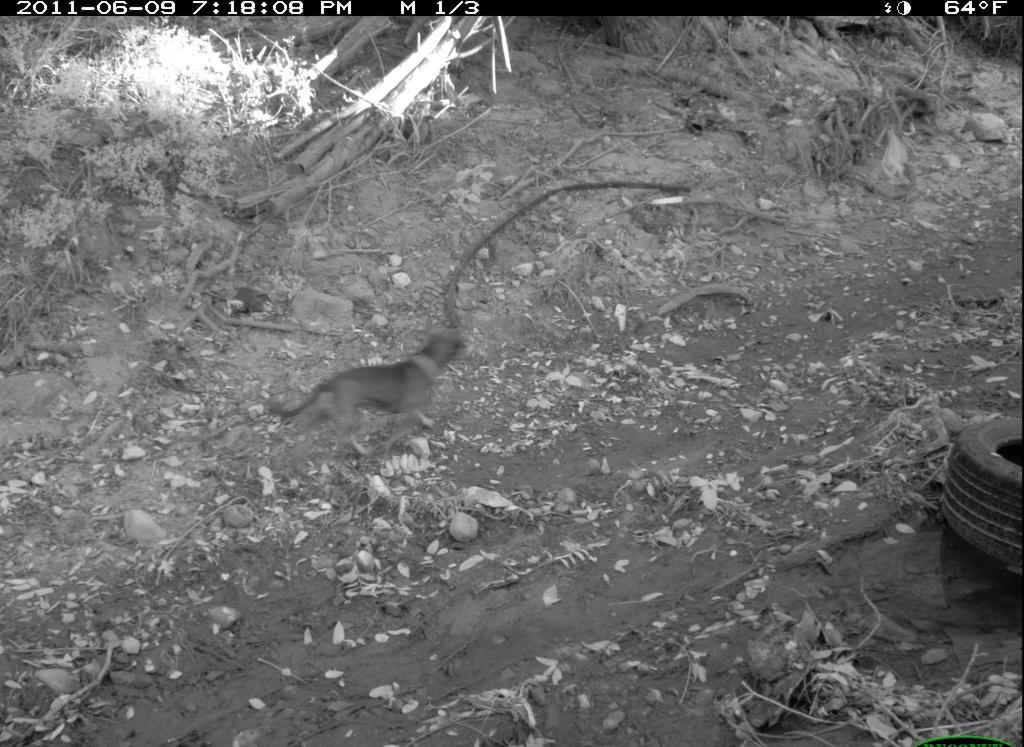dog: (260, 329, 479, 472)
